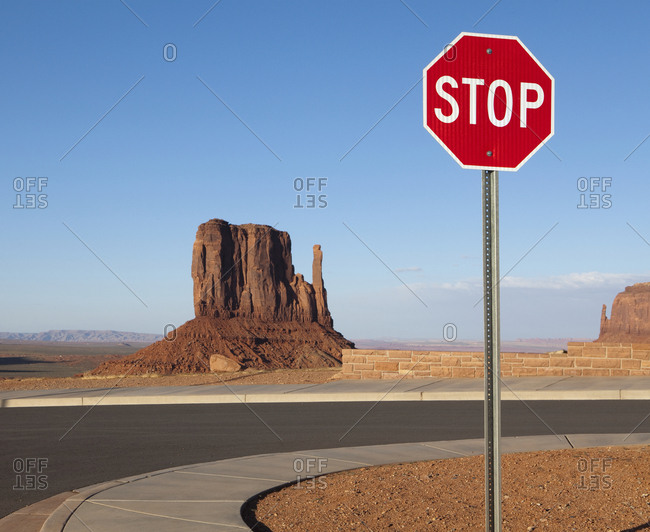stop: (418, 29, 557, 174)
